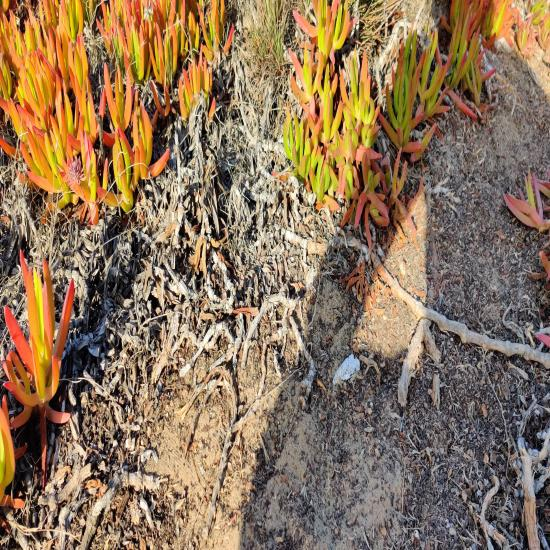Plastic film: (94, 295, 170, 532)
Scrap metal: (230, 237, 277, 319), (171, 182, 209, 268), (238, 94, 262, 174), (271, 186, 293, 272), (286, 162, 332, 196), (242, 162, 285, 196)
